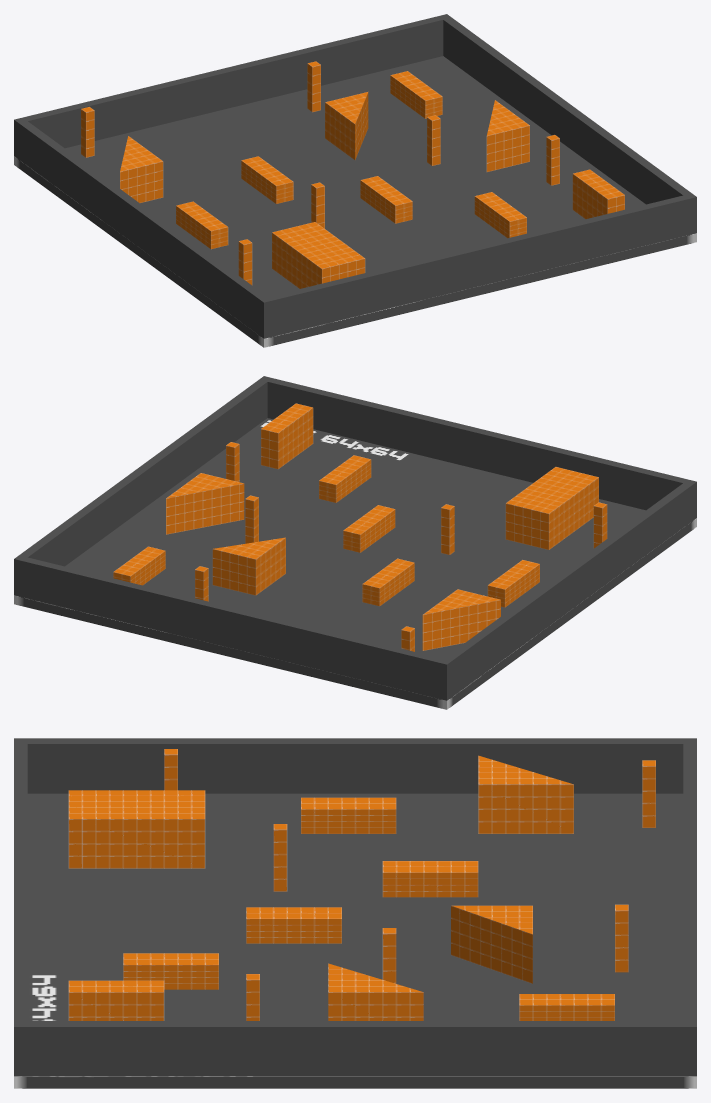
Rendered from park.gltf.
The picture shows the model from 3 angles, top to bottom: view 1: azimuth 30°, elevation 25°; view 2: azimuth 150°, elevation 25°; view 3: azimuth 270°, elevation 25°; orthographic projection. The views are drawn at different scales.
Visible parts, largest first — view 1: Map_Ground-col, wall_outer_4-col, wall_outer_2-col, wall_outer_1-col, wall_outer_3-col, wall_obstacle_3-col, wall_obstacle_0-col, wall_obstacle_1-col, wall_obstacle_7-col, wall_obstacle_11-col, wall_obstacle_6-col, wall_obstacle_2-col (+9 smaller); view 2: Map_Ground-col, wall_outer_2-col, wall_outer_4-col, wall_outer_1-col, wall_outer_3-col, wall_obstacle_3-col, wall_obstacle_0-col, wall_obstacle_1-col, wall_obstacle_7-col, wall_obstacle_11-col, wall_obstacle_2-col, wall_obstacle_4-col (+7 smaller); view 3: Map_Ground-col, wall_outer_3-col, wall_outer_1-col, wall_obstacle_3-col, wall_obstacle_7-col, wall_obstacle_1-col, wall_outer_2-col, wall_obstacle_0-col, wall_obstacle_11-col, wall_outer_4-col, wall_obstacle_5-col, wall_obstacle_2-col (+9 smaller).
Boxes of the visible parts, bbox=[...] form: Map_Ground-col: bbox=[14, 56, 696, 347]; wall_outer_4-col: bbox=[259, 195, 688, 338]; wall_outer_2-col: bbox=[23, 14, 451, 148]; wall_outer_1-col: bbox=[14, 117, 267, 334]; wall_outer_3-col: bbox=[443, 17, 696, 235]; wall_obstacle_3-col: bbox=[272, 222, 365, 288]; wall_obstacle_0-col: bbox=[486, 100, 529, 171]; wall_obstacle_1-col: bbox=[325, 92, 368, 159]; wall_obstacle_7-col: bbox=[120, 136, 163, 202]; wall_obstacle_11-col: bbox=[572, 169, 624, 219]; wall_obstacle_6-col: bbox=[176, 201, 228, 249]; wall_obstacle_2-col: bbox=[360, 176, 412, 223]; Map_Ground-col: bbox=[14, 418, 696, 709]; wall_outer_2-col: bbox=[14, 555, 442, 698]; wall_outer_4-col: bbox=[267, 378, 696, 521]; wall_outer_1-col: bbox=[438, 483, 691, 700]; wall_outer_3-col: bbox=[19, 376, 272, 566]; wall_obstacle_3-col: bbox=[505, 467, 598, 549]; wall_obstacle_0-col: bbox=[166, 473, 244, 534]; wall_obstacle_1-col: bbox=[212, 537, 285, 595]; wall_obstacle_7-col: bbox=[422, 589, 500, 650]; wall_obstacle_11-col: bbox=[261, 403, 313, 469]; wall_obstacle_2-col: bbox=[343, 505, 395, 552]; wall_obstacle_4-col: bbox=[319, 455, 371, 502]; Map_Ground-col: bbox=[14, 793, 696, 1088]; wall_outer_3-col: bbox=[14, 1021, 683, 1076]; wall_outer_1-col: bbox=[27, 738, 696, 793]; wall_obstacle_3-col: bbox=[68, 790, 205, 868]; wall_obstacle_7-col: bbox=[478, 755, 573, 833]; wall_obstacle_1-col: bbox=[451, 905, 532, 983]; wall_outer_2-col: bbox=[683, 744, 696, 1076]; wall_obstacle_0-col: bbox=[328, 963, 423, 1020]; wall_obstacle_11-col: bbox=[68, 980, 164, 1020]; wall_outer_4-col: bbox=[14, 738, 27, 1020]; wall_obstacle_5-col: bbox=[382, 861, 478, 897]; wall_obstacle_2-col: bbox=[246, 907, 341, 943].
Size of the model in its own units: 40.29 by 4.84 by 40.29.
4 materials, 4 textured.
